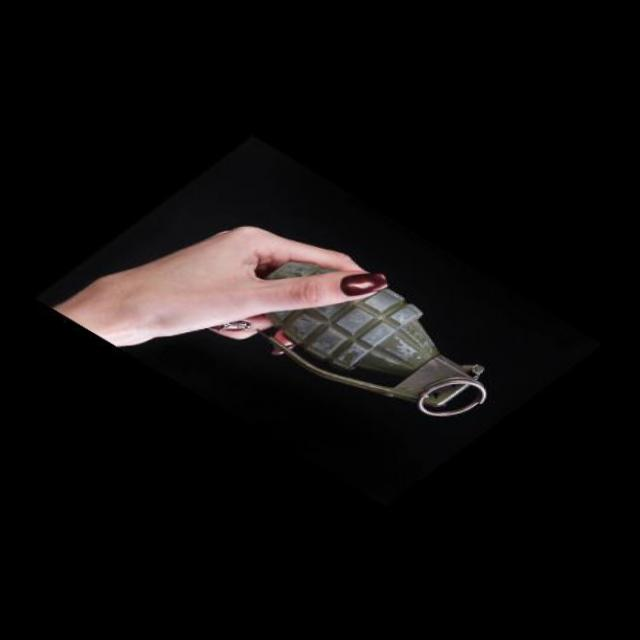grenade: (236, 234, 494, 431)
